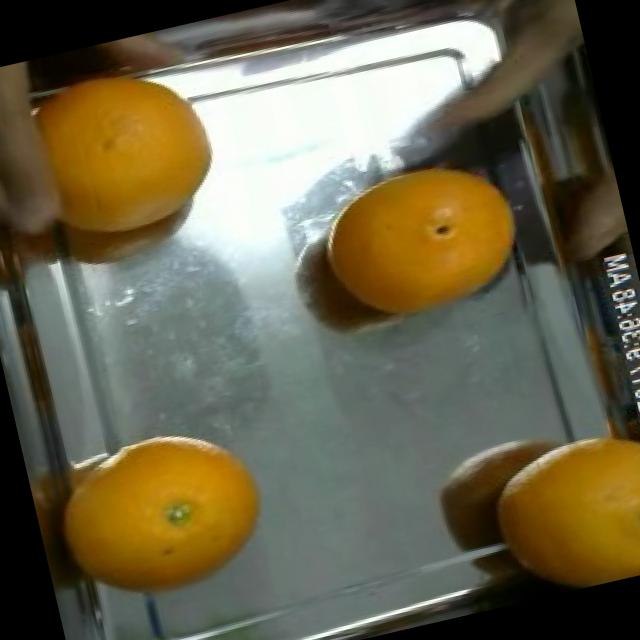Fruit: (305, 132, 553, 352), (466, 410, 640, 607), (0, 54, 61, 140)
